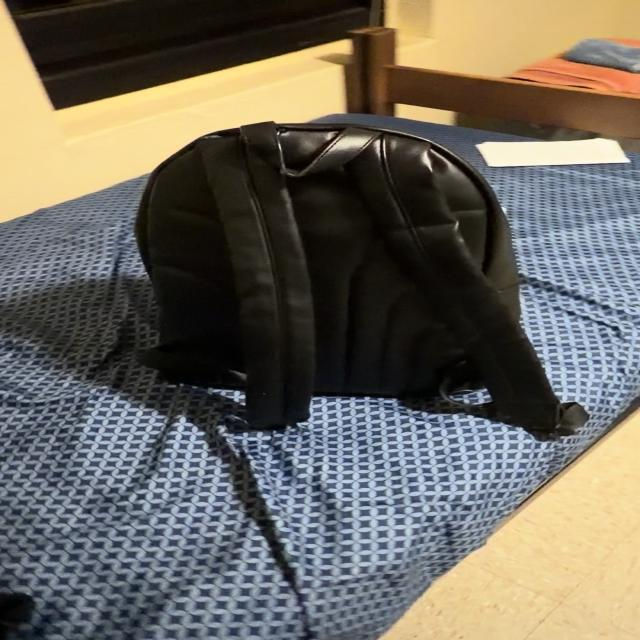backpack: (137, 122, 586, 436), (462, 407, 462, 408)
